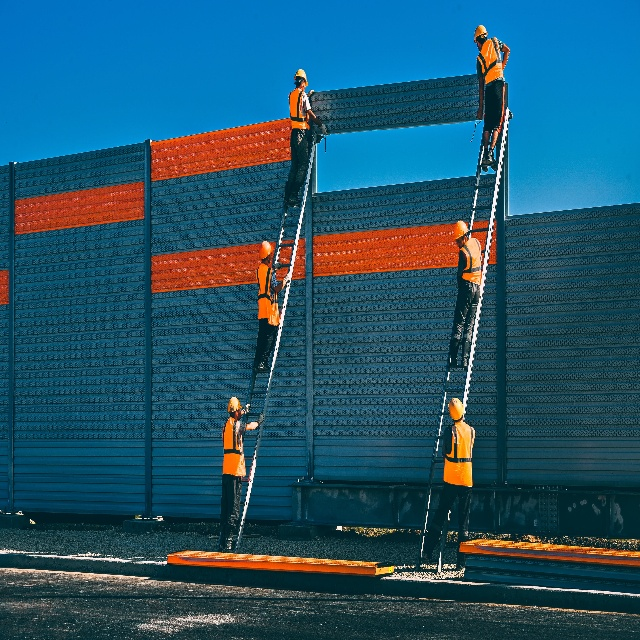Guantes: (256, 409, 265, 425), (242, 403, 252, 415), (320, 123, 328, 135), (284, 272, 291, 283), (273, 261, 282, 269), (307, 89, 315, 97)
Sin_guantes: (476, 105, 483, 120)
